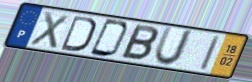B: (118, 23, 160, 63)
D: (87, 17, 132, 59), (59, 14, 98, 54)
I: (197, 34, 222, 73)
U: (152, 25, 196, 68)
X: (27, 10, 71, 51)
